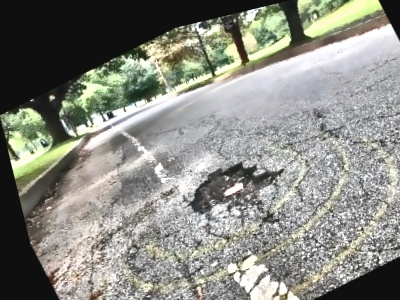pothole: (169, 139, 294, 230)
